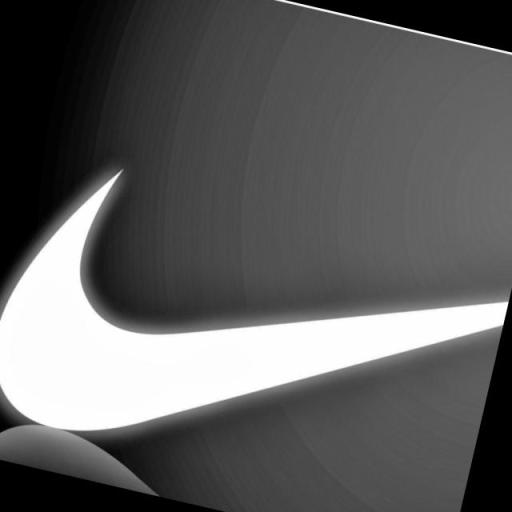Nike: (0, 162, 512, 512)
